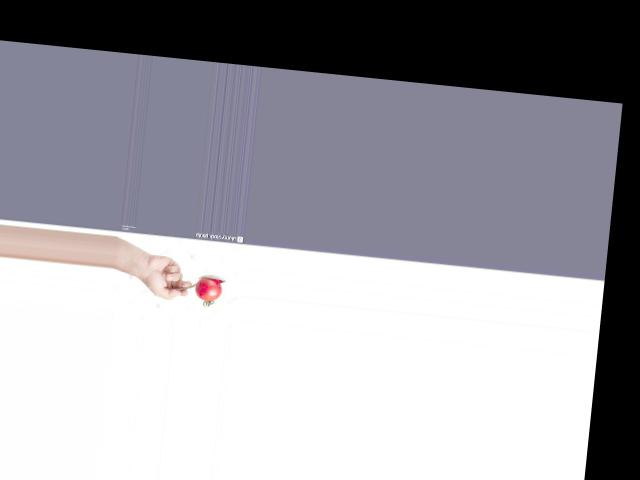tomato: (193, 277, 222, 302)
